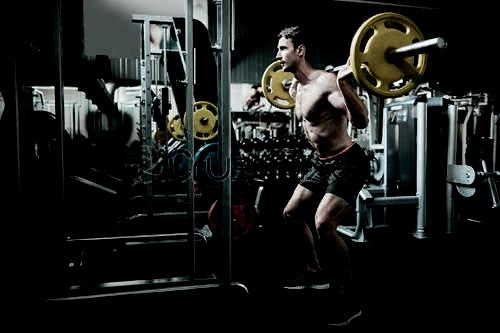Barbell: (435, 34, 451, 51)
